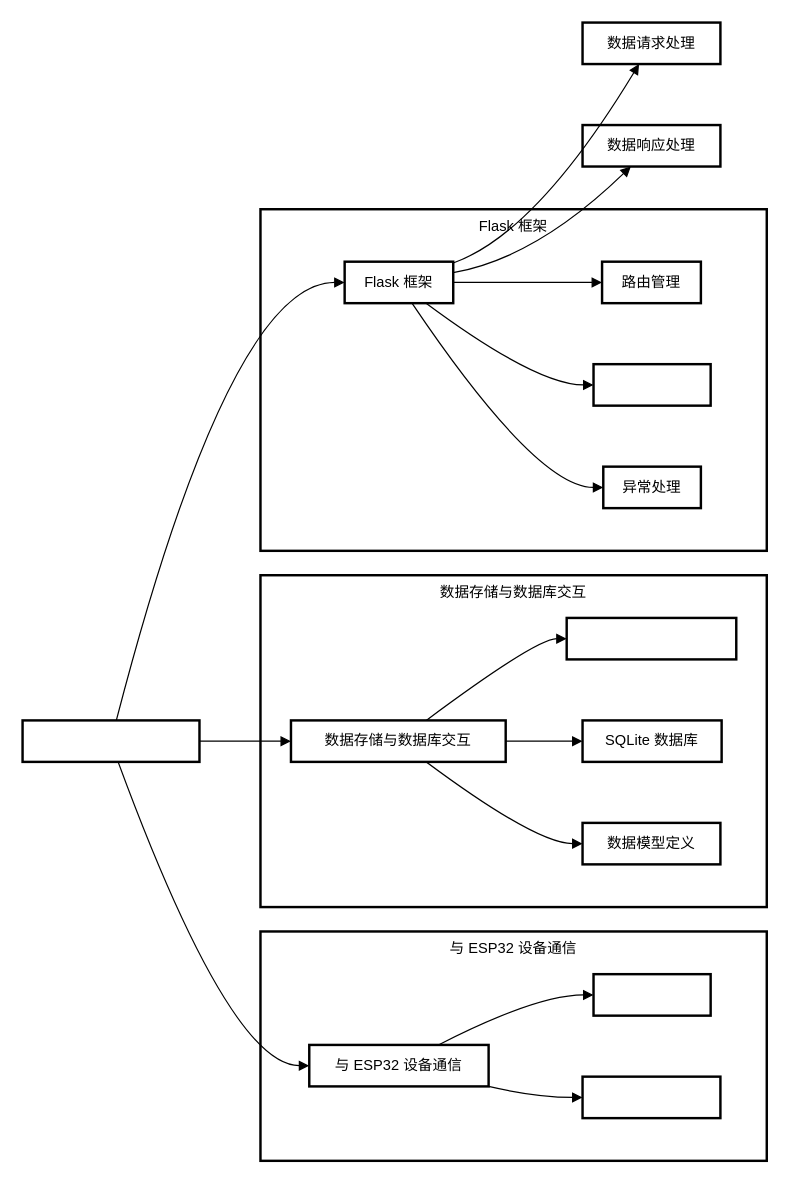
Image size: 788x1182. Some labels were removed from this diagram. The centre of each missing label's shape, as x and y in pixels:
"RESTful API" belongs at (651,994).
"SQLAlchemy ORM" belongs at (651,638).
"中间件处理" belongs at (651,384).
"后端服务器的设计" belongs at (110,740).
"数据格式约定" belongs at (651,1097).
